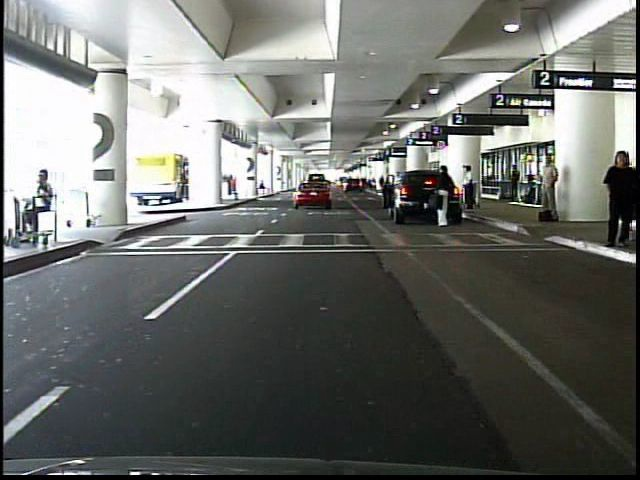person: (599, 148, 636, 247), (12, 165, 57, 241), (436, 164, 454, 228), (460, 164, 476, 211), (510, 162, 522, 201)
